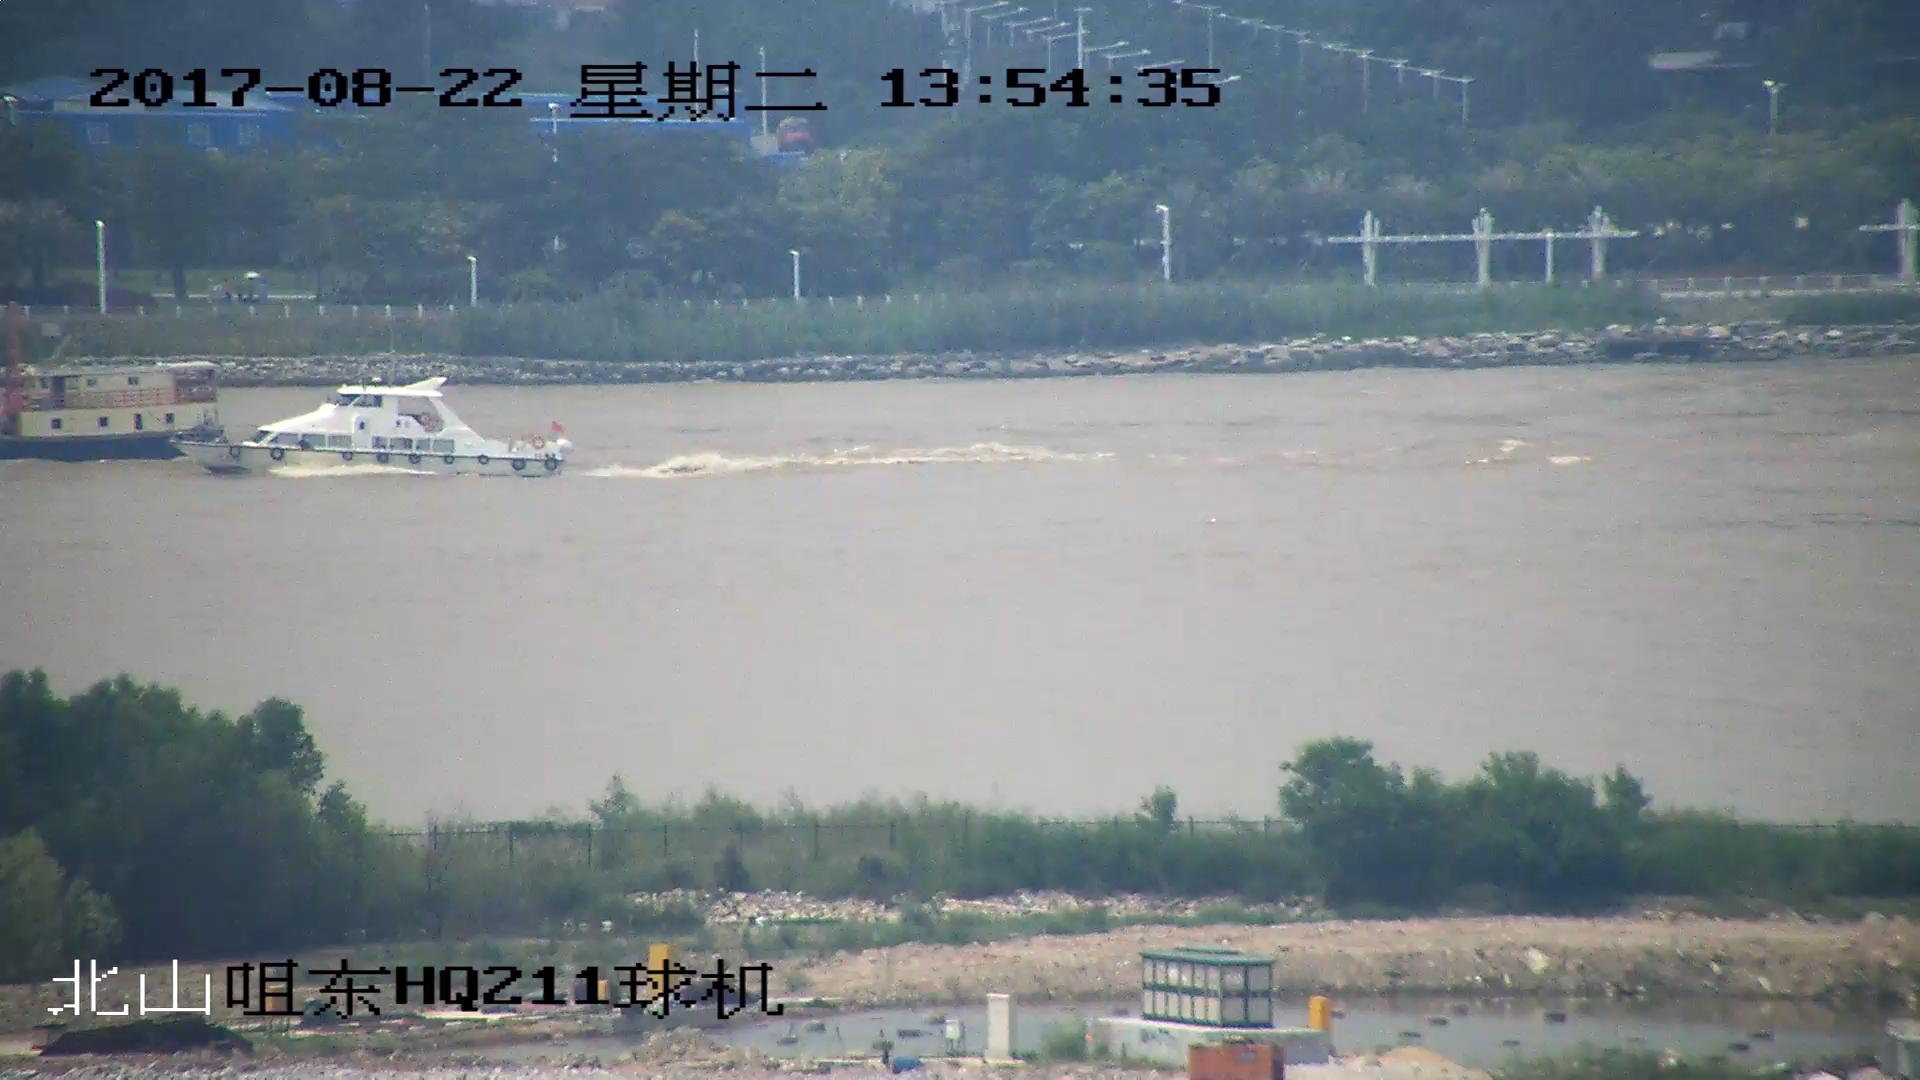fishing boat: (1, 340, 228, 465)
passenger ship: (172, 377, 570, 485)
